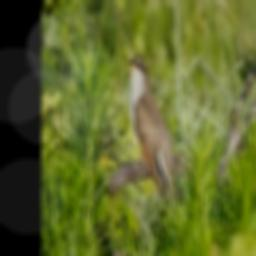Cuckoo: (126, 54, 177, 210)
